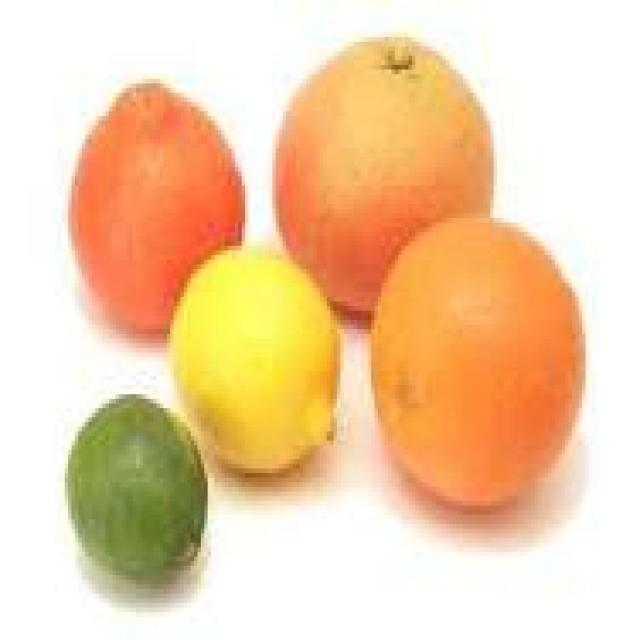orange: (44, 32, 606, 598)
